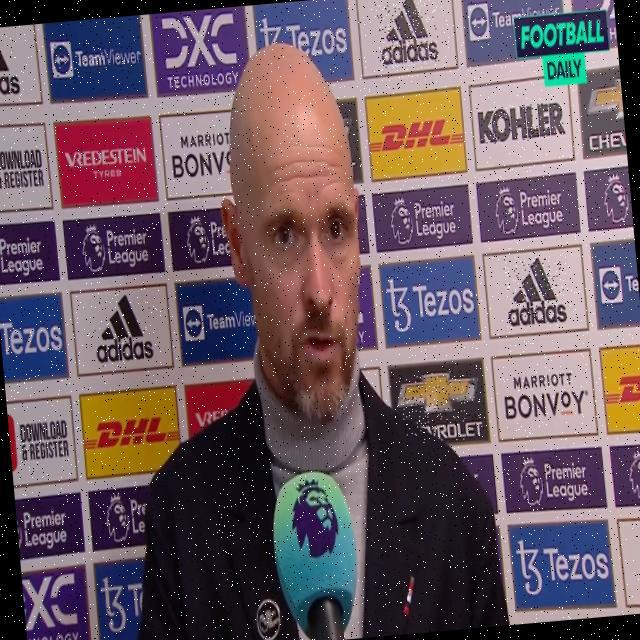Adidas: (503, 253, 568, 330), (91, 290, 154, 367), (374, 0, 440, 68)
Chevrolet: (397, 369, 483, 445)
Kohler: (476, 101, 565, 145)
TeamViewer: (50, 35, 142, 78)
